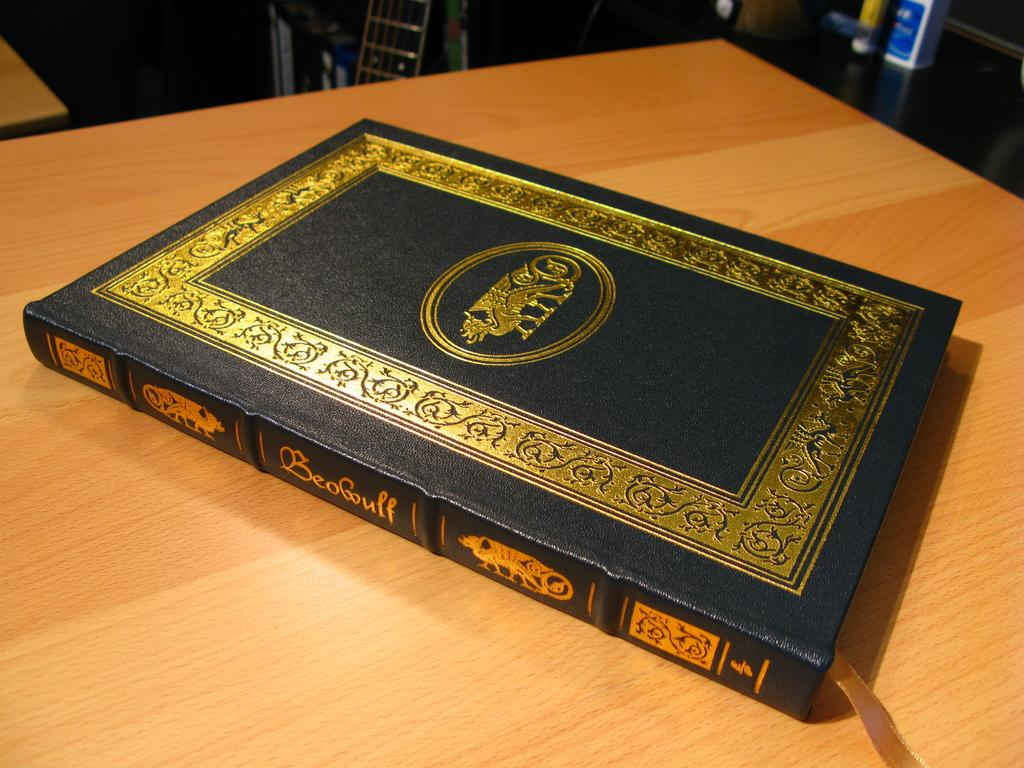book: (17, 116, 963, 767)
